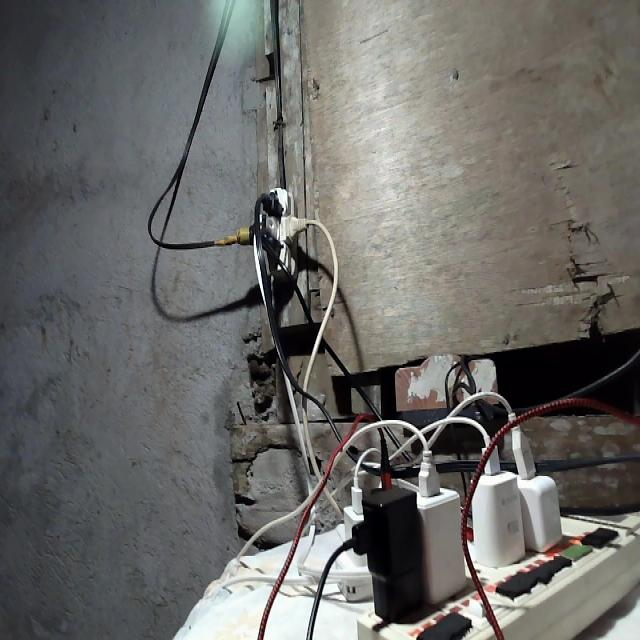-: (222, 184, 322, 284)
